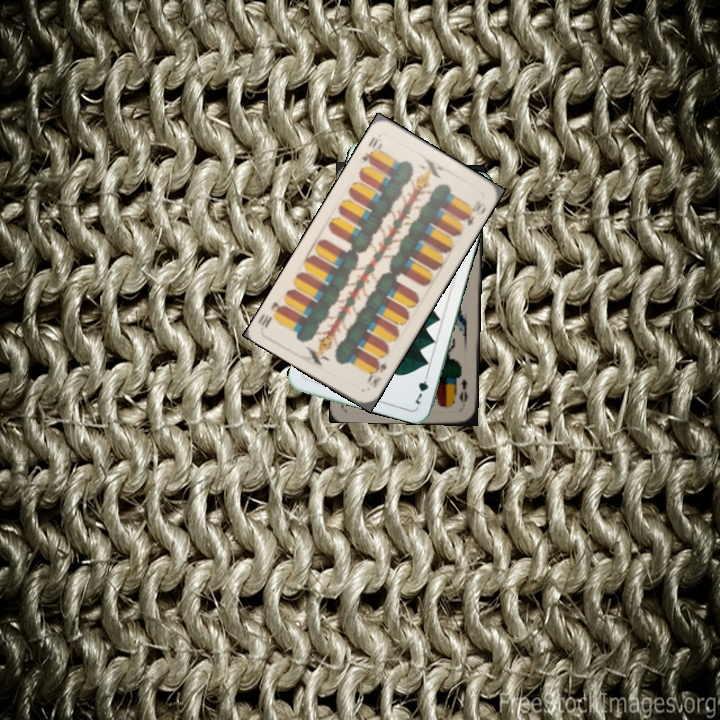E10: (356, 133, 385, 167), (363, 353, 389, 390)
EO: (455, 375, 470, 405)
G7: (411, 368, 431, 407)
